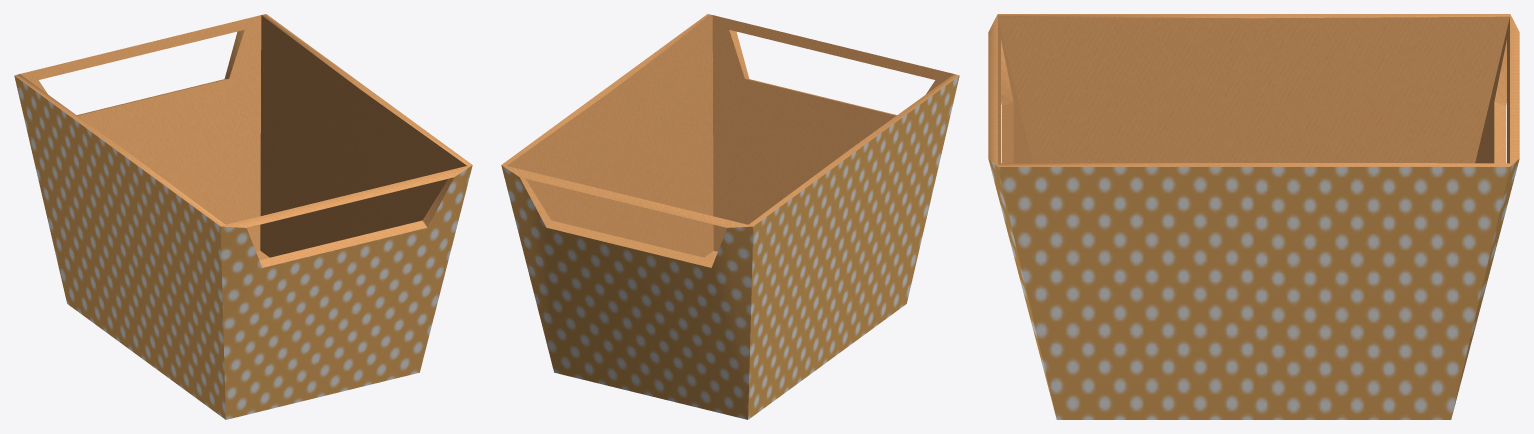
Rendered from Storage_Bin_A.FBX.
3 renders of one model, left to right at view 1: azimuth 30°, elevation 25°; view 2: azimuth 150°, elevation 25°; view 3: azimuth 270°, elevation 25°, orthographic. The views are drawn at different scales.
Visible parts, largest first — view 1: Storage_Bin; view 2: Storage_Bin; view 3: Storage_Bin.
Boxes of the visible parts, box(x1,y1,x2,y2) form: Storage_Bin: box(14, 14, 472, 419); Storage_Bin: box(501, 14, 959, 419); Storage_Bin: box(988, 14, 1519, 419).
Bounding box in the file's own units: 84.75 × 70.11 × 125.
